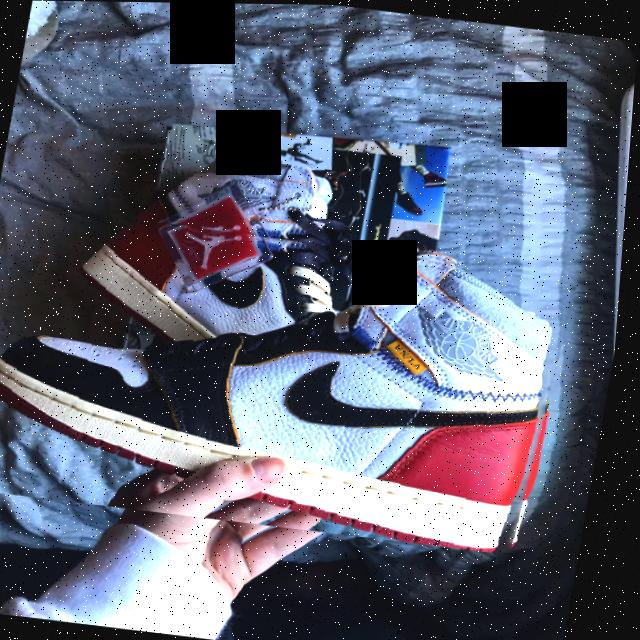shoe: (0, 204, 587, 555), (77, 142, 364, 351)
